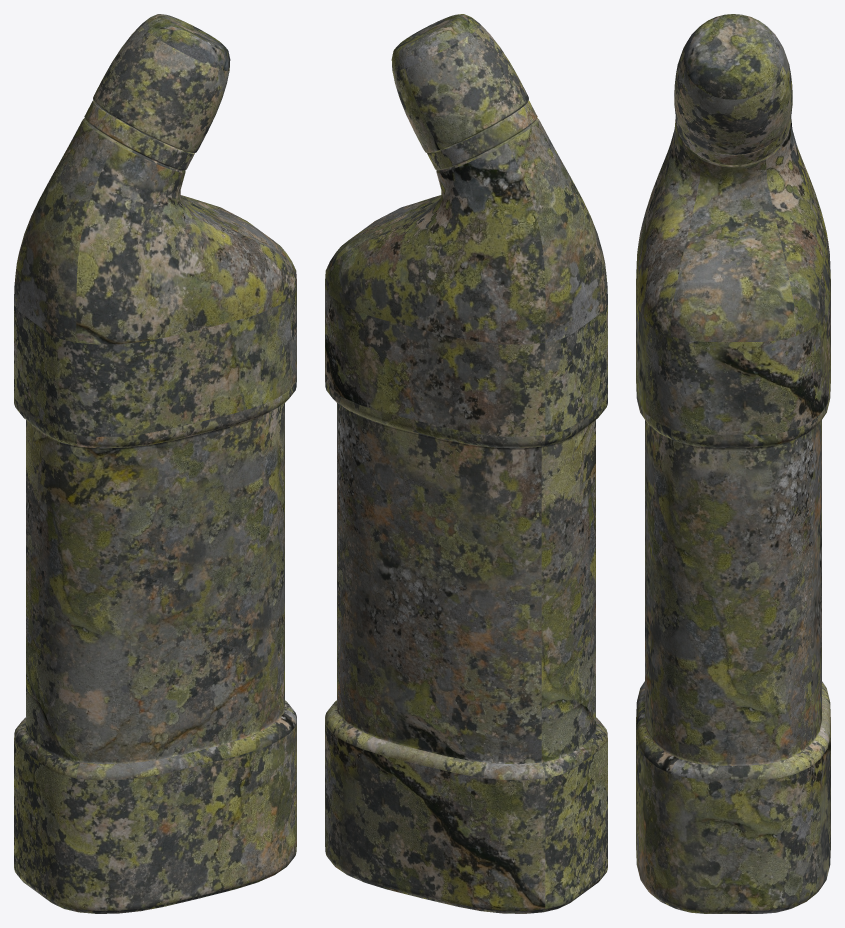
File: bleach_bottle.gltf
3 renders of one model, left to right at view 1: azimuth 30°, elevation 25°; view 2: azimuth 150°, elevation 25°; view 3: azimuth 270°, elevation 25°, orthographic.
Parts seen in each view (by area): view 1: bleach_bottle; view 2: bleach_bottle; view 3: bleach_bottle.
Boxes of the visible parts, <box> form: bleach_bottle: <box>14,14,296,913</box>; bleach_bottle: <box>325,14,607,913</box>; bleach_bottle: <box>636,14,830,913</box>.
Bounding box in the file's own units: 0.0884 × 0.2937 × 0.0612.
